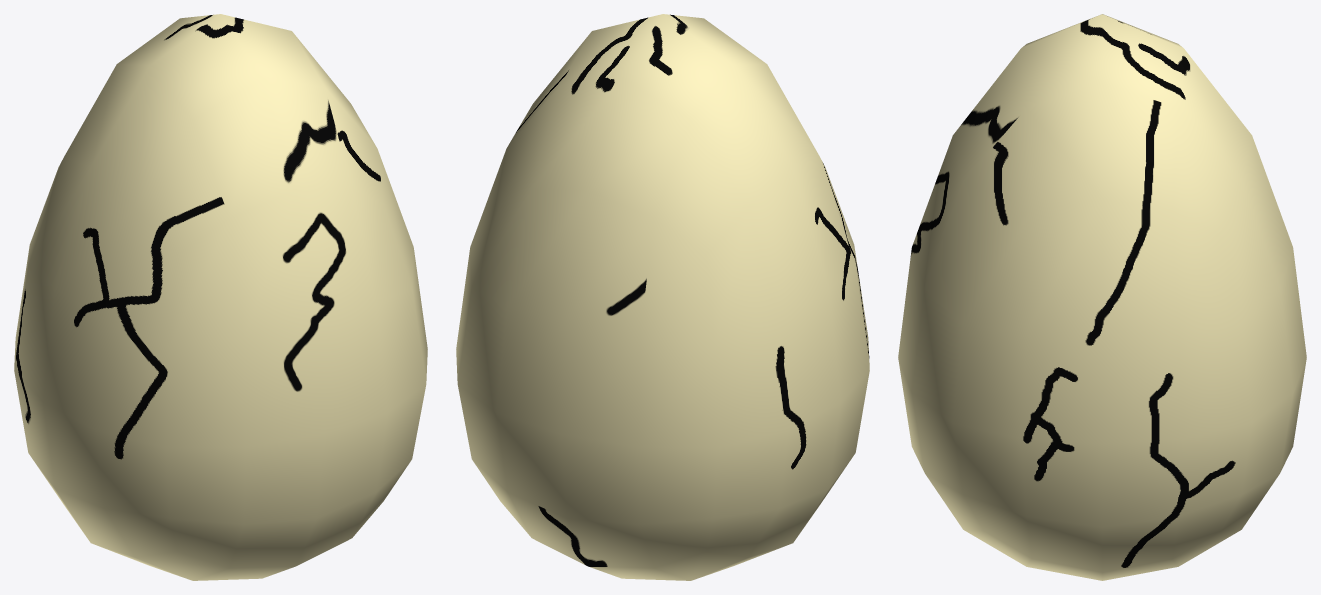
File: egg_whole_cracked.fbx
The picture shows the model from 3 angles, left to right: view 1: azimuth 30°, elevation 25°; view 2: azimuth 150°, elevation 25°; view 3: azimuth 270°, elevation 25°; orthographic projection.
Visible parts, largest first — view 1: egg_cracked2; view 2: egg_cracked2; view 3: egg_cracked2.
Boxes of the visible parts, box(x1,y1,x2,y2) form: egg_cracked2: box(14, 14, 427, 580); egg_cracked2: box(456, 14, 869, 580); egg_cracked2: box(898, 14, 1306, 580).
Size of the model in its own units: 0.8785 by 1.29 by 0.8785.
Materials: 1 (1 with a texture image).
